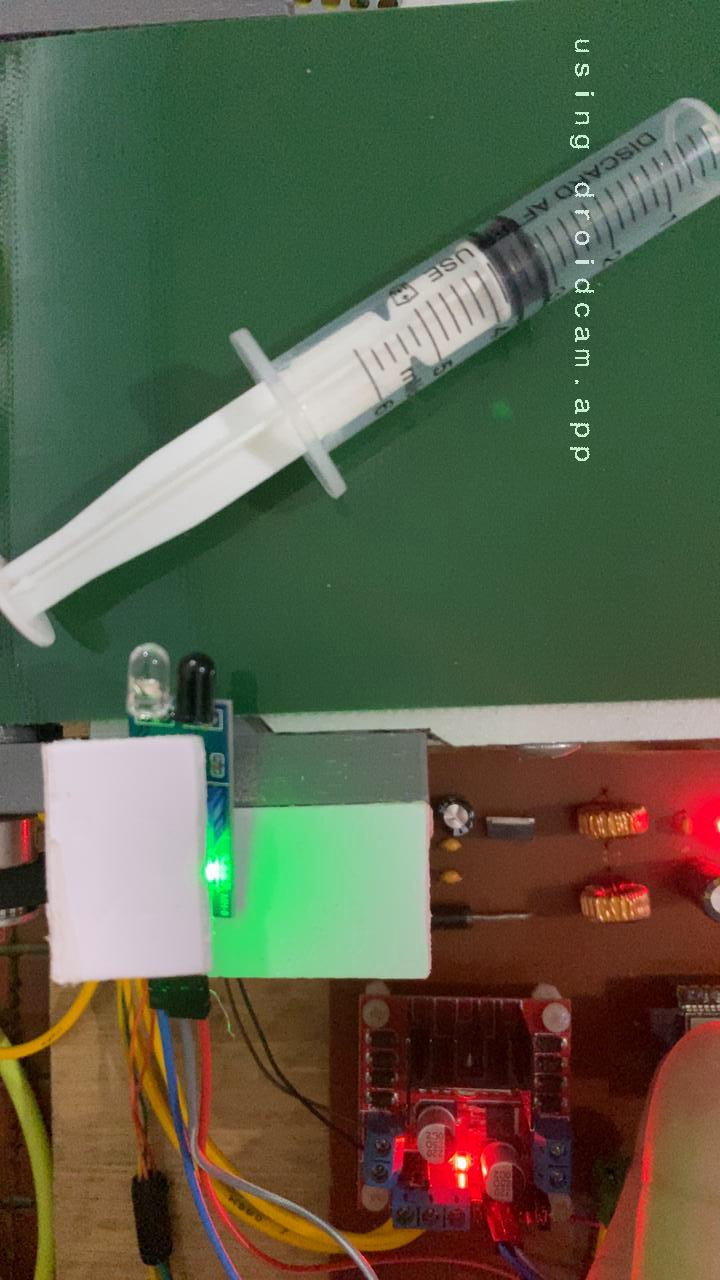syringe: (0, 92, 720, 655)
